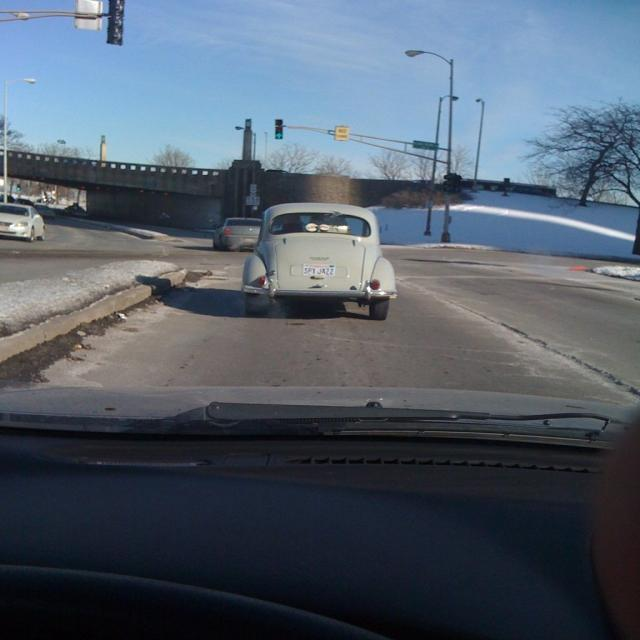car: (238, 195, 399, 320)
